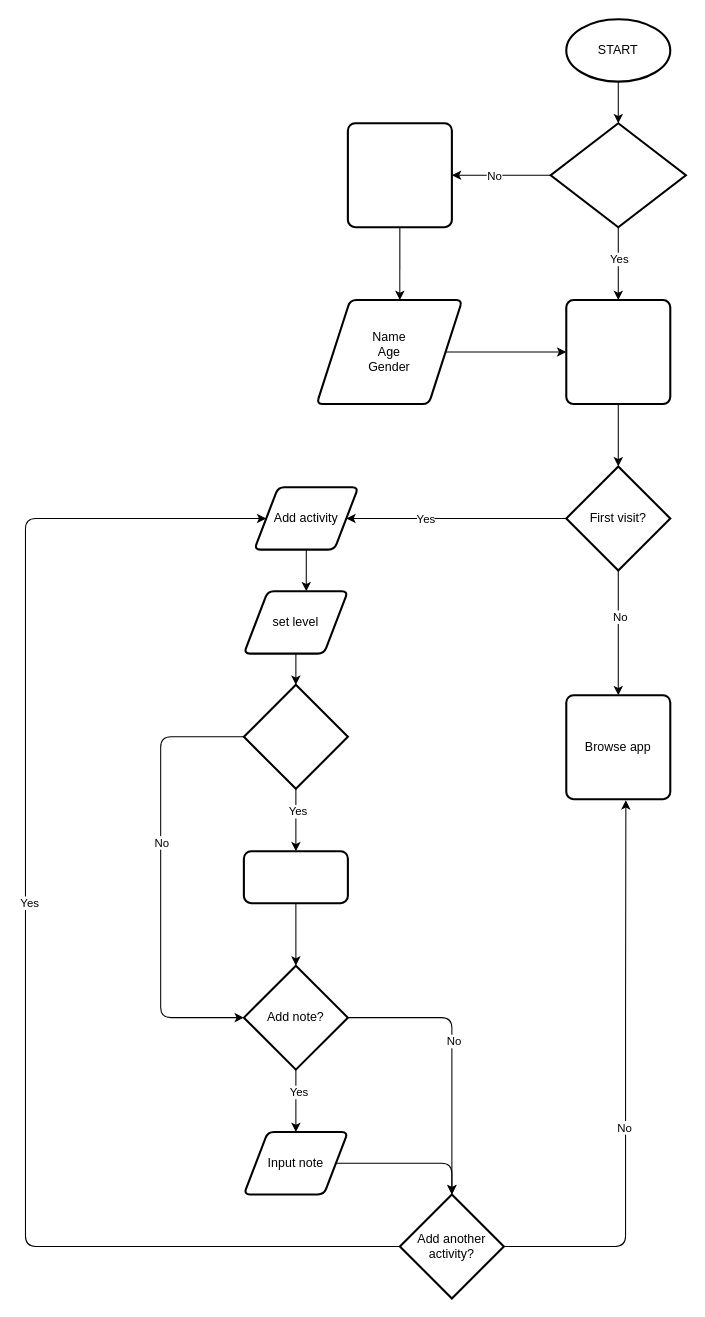
Some shapes in this 705 by 1317 pixel diagram are drawn without their labels. Each missing label, with the box of its shape:
Add location?: (242, 683, 348, 789)
Have account?: (549, 122, 686, 228)
Login: (565, 298, 671, 405)
Pick from list Pick on map: (242, 850, 348, 904)
Register: (346, 122, 452, 228)
